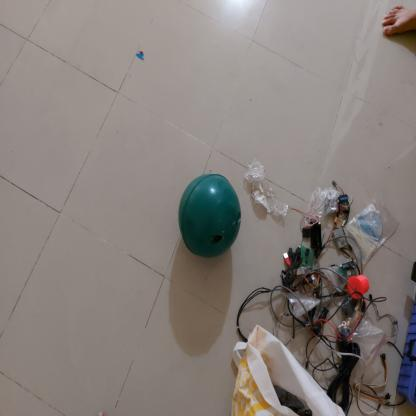green_buoy: (177, 172, 244, 262)
